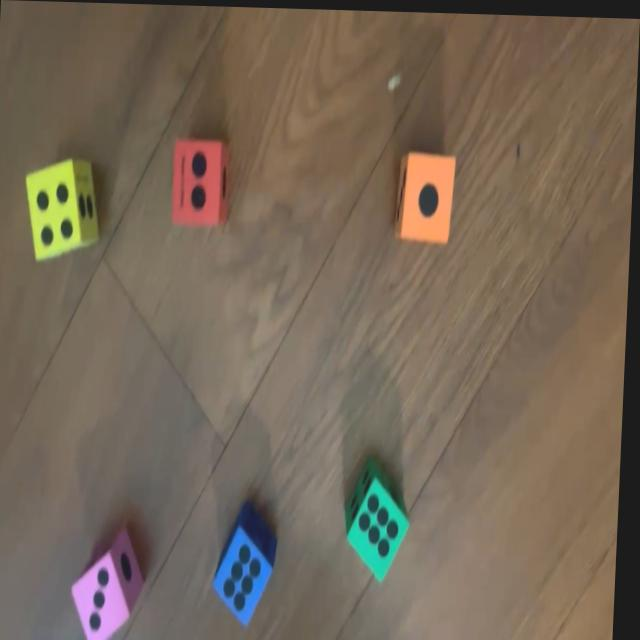blue_block: (213, 511, 281, 624)
red_block: (172, 138, 234, 224)
